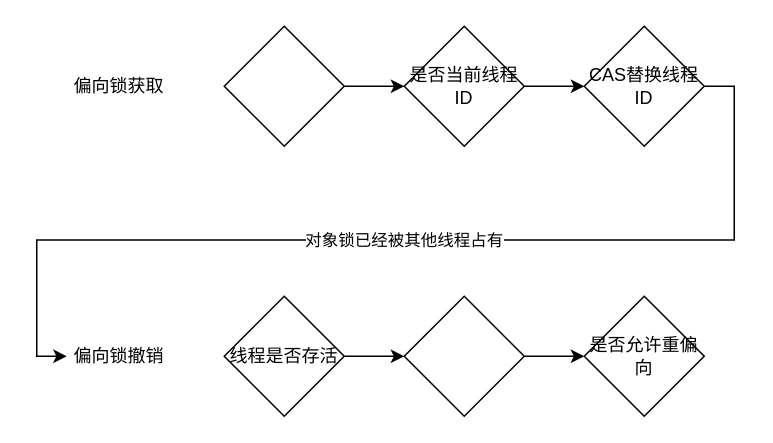
The diagram is 773 pixels wide and 443 high, and some of its shapes have lost their labels. Here are the shapes that lost their labels. From the top down, the centre of each, then its label:
At point 283,85: "是否偏向锁".
At point 463,355: "是否在执行同步代码块".
